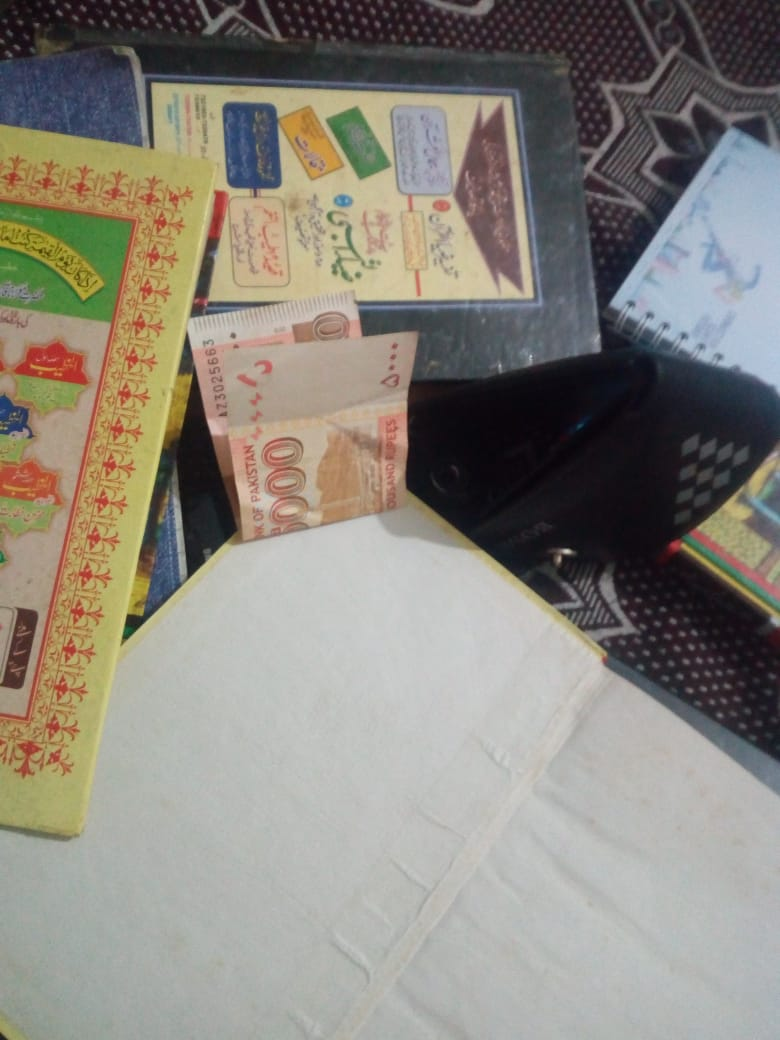5000 rupee: (189, 303, 405, 542)
